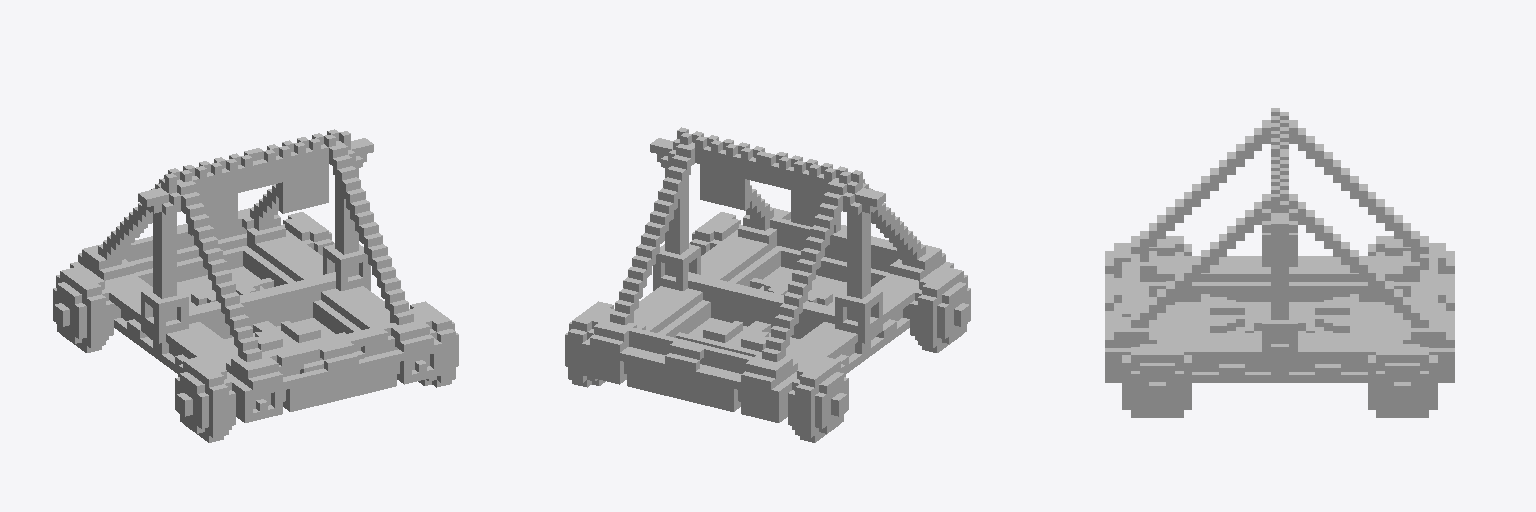
The model's file is Catapult.obj.
The picture shows the model from 3 angles: view 1: azimuth 30°, elevation 25°; view 2: azimuth 150°, elevation 25°; view 3: azimuth 270°, elevation 25°; orthographic projection.
Visible parts, largest first — view 1: object 1; view 2: object 1; view 3: object 1.
Part boxes in pixels (left/top/right/bottom): object 1: left=53, top=129, right=458, bottom=442; object 1: left=565, top=127, right=970, bottom=442; object 1: left=1105, top=108, right=1454, bottom=417.
Size of the model in its own units: 3.6 by 2.6 by 4.